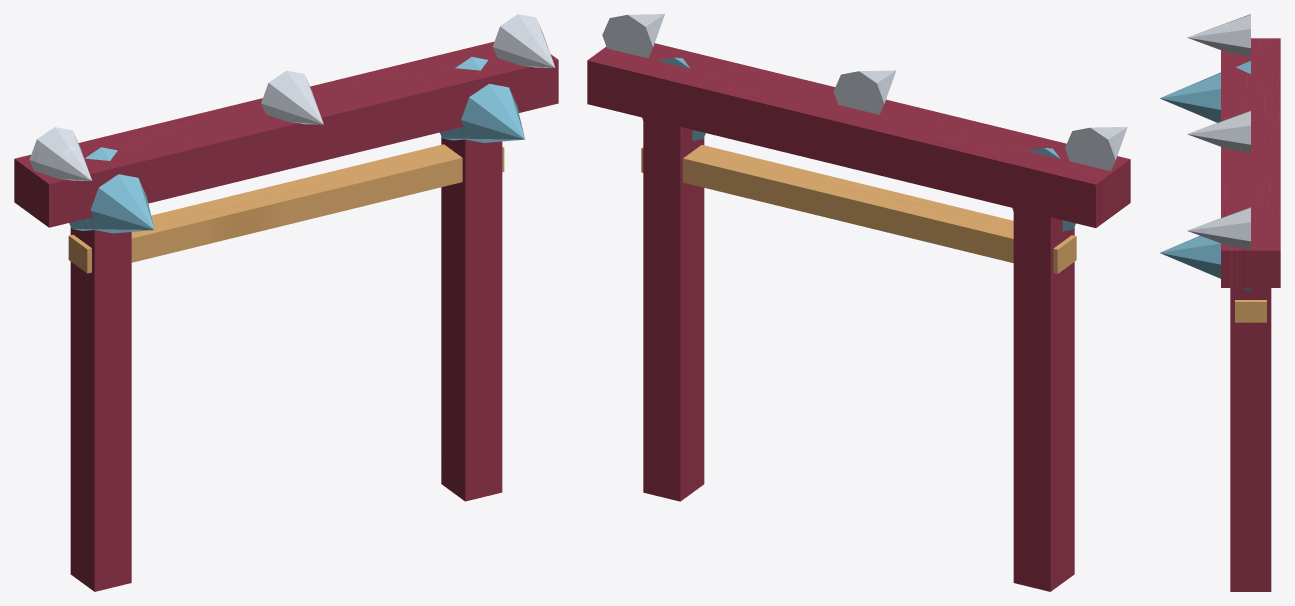
File: frost_torii_gate_lod1.glb
3 views of the same model, side by side, from view 1: azimuth 30°, elevation 25°; view 2: azimuth 150°, elevation 25°; view 3: azimuth 270°, elevation 25° (orthographic). The views are drawn at different scales.
Visible parts, largest first — view 1: vermillion_4, vermillion_0, vermillion_2, gold_5, ice_1, ice_3, snow_7, snow_8, snow_6; view 2: vermillion_4, vermillion_0, vermillion_2, gold_5, snow_7, snow_8, snow_6; view 3: vermillion_4, vermillion_2, ice_1, snow_8, snow_6, snow_7, ice_3, gold_5.
Boxes of the visible parts, x1,y1,x2,y2 form: vermillion_4: (14,41,558,227); vermillion_0: (70,227,131,591); vermillion_2: (441,137,502,501); gold_5: (68,144,504,273); ice_1: (69,147,154,233); ice_3: (439,57,525,142); snow_7: (261,70,323,124); snow_8: (492,14,555,67); snow_6: (29,127,91,180); vermillion_4: (587,43,1130,227); vermillion_0: (1013,208,1074,591); vermillion_2: (643,118,704,501); gold_5: (641,145,1076,273); snow_7: (833,70,896,114); snow_8: (602,14,664,58); snow_6: (1065,127,1127,171); vermillion_4: (1221,38,1280,287); vermillion_2: (1230,288,1271,591); ice_1: (1160,60,1250,122); snow_8: (1187,207,1250,249); snow_6: (1187,14,1250,56); snow_7: (1187,110,1250,152); ice_3: (1160,235,1250,291); gold_5: (1235,300,1266,322).
Bounding box in the file's own units: 11.1 × 9.55 × 2.65.
Materials: 4 (4 with a texture image).
